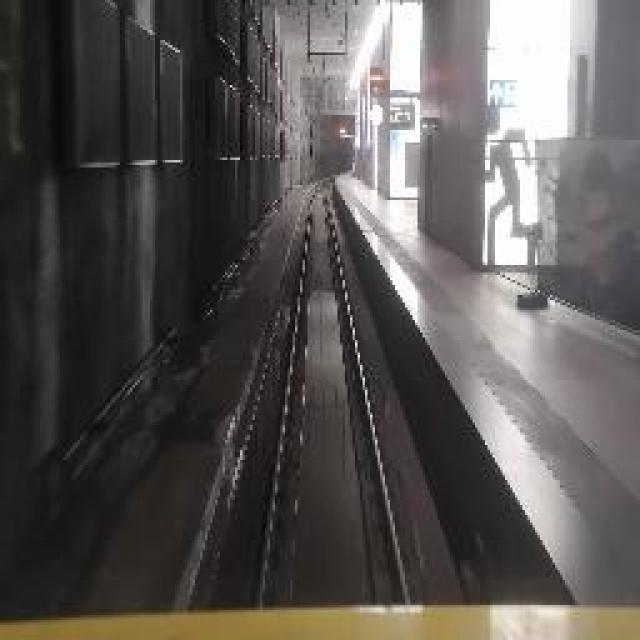rail: (225, 173, 436, 607)
